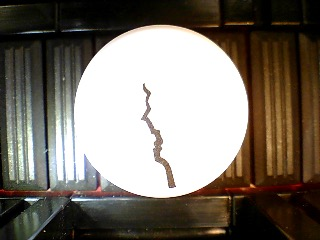CRACK: (73, 24, 249, 199)
